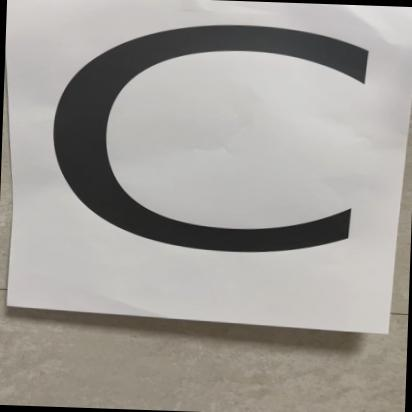seat: (17, 0, 403, 328)
